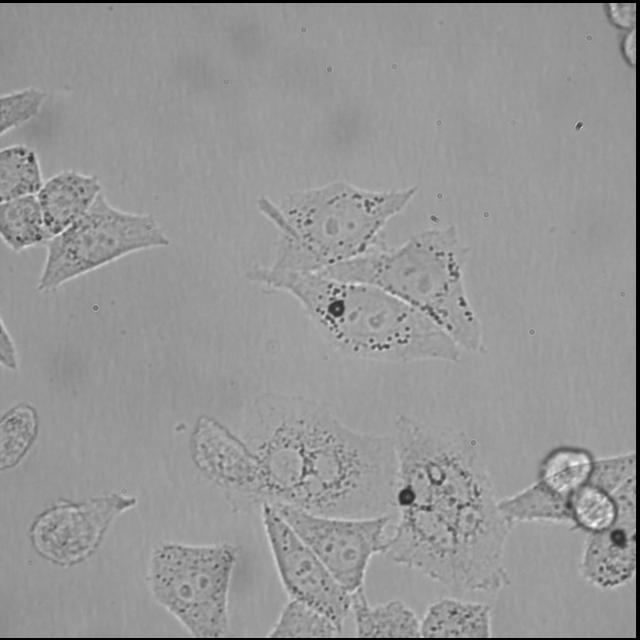microbeads: (398, 486, 416, 504), (330, 300, 344, 318)
